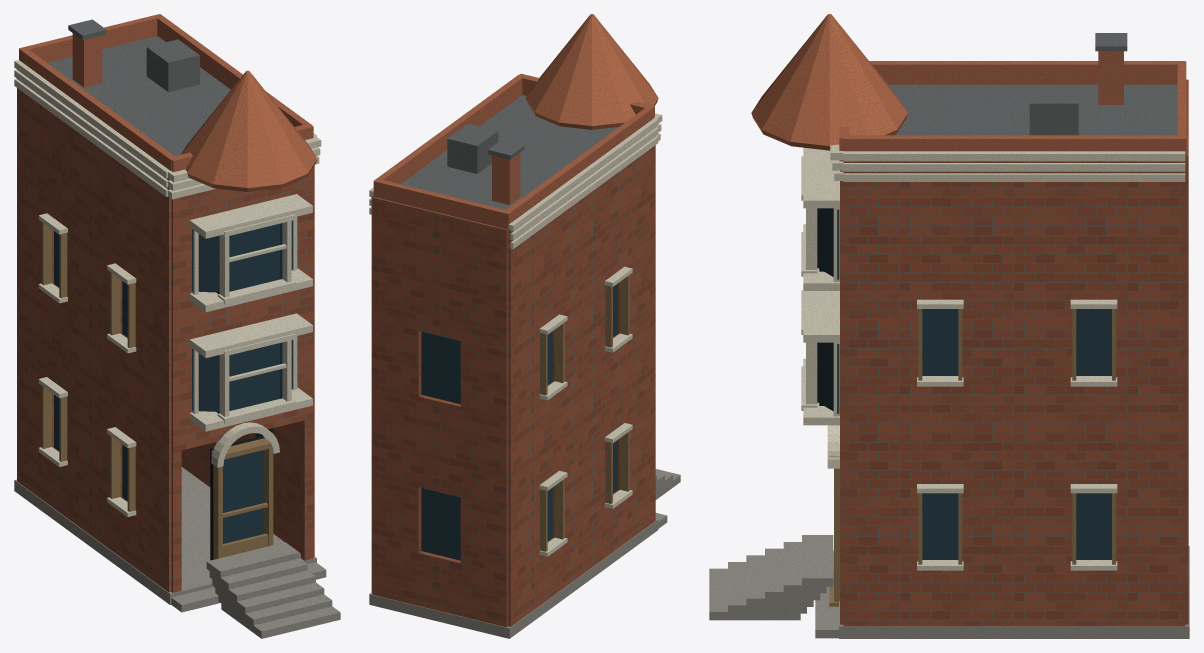
The model's file is VICT6A_lod2.glb.
The picture shows the model from 3 angles, left to right: view 1: azimuth 30°, elevation 25°; view 2: azimuth 150°, elevation 25°; view 3: azimuth 270°, elevation 25°; orthographic projection. The views are drawn at different scales.
Visible parts, largest first — view 1: VICT6A_LOD2; view 2: VICT6A_LOD2; view 3: VICT6A_LOD2.
Part boxes in pixels (<box>): VICT6A_LOD2: <box>14,14,340,638</box>; VICT6A_LOD2: <box>369,14,680,638</box>; VICT6A_LOD2: <box>709,14,1189,638</box>.
Size of the model in its own units: 3.71 by 11.3 by 8.43.
Materials: 9 (7 with a texture image).
